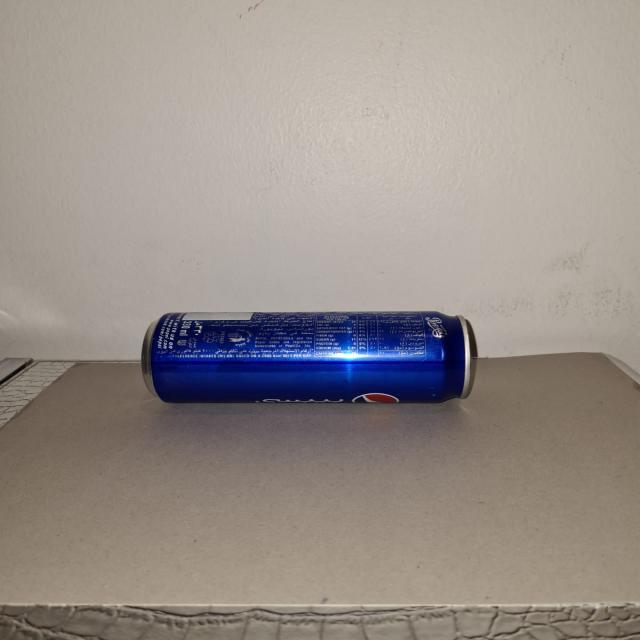can: (123, 306, 486, 414)
